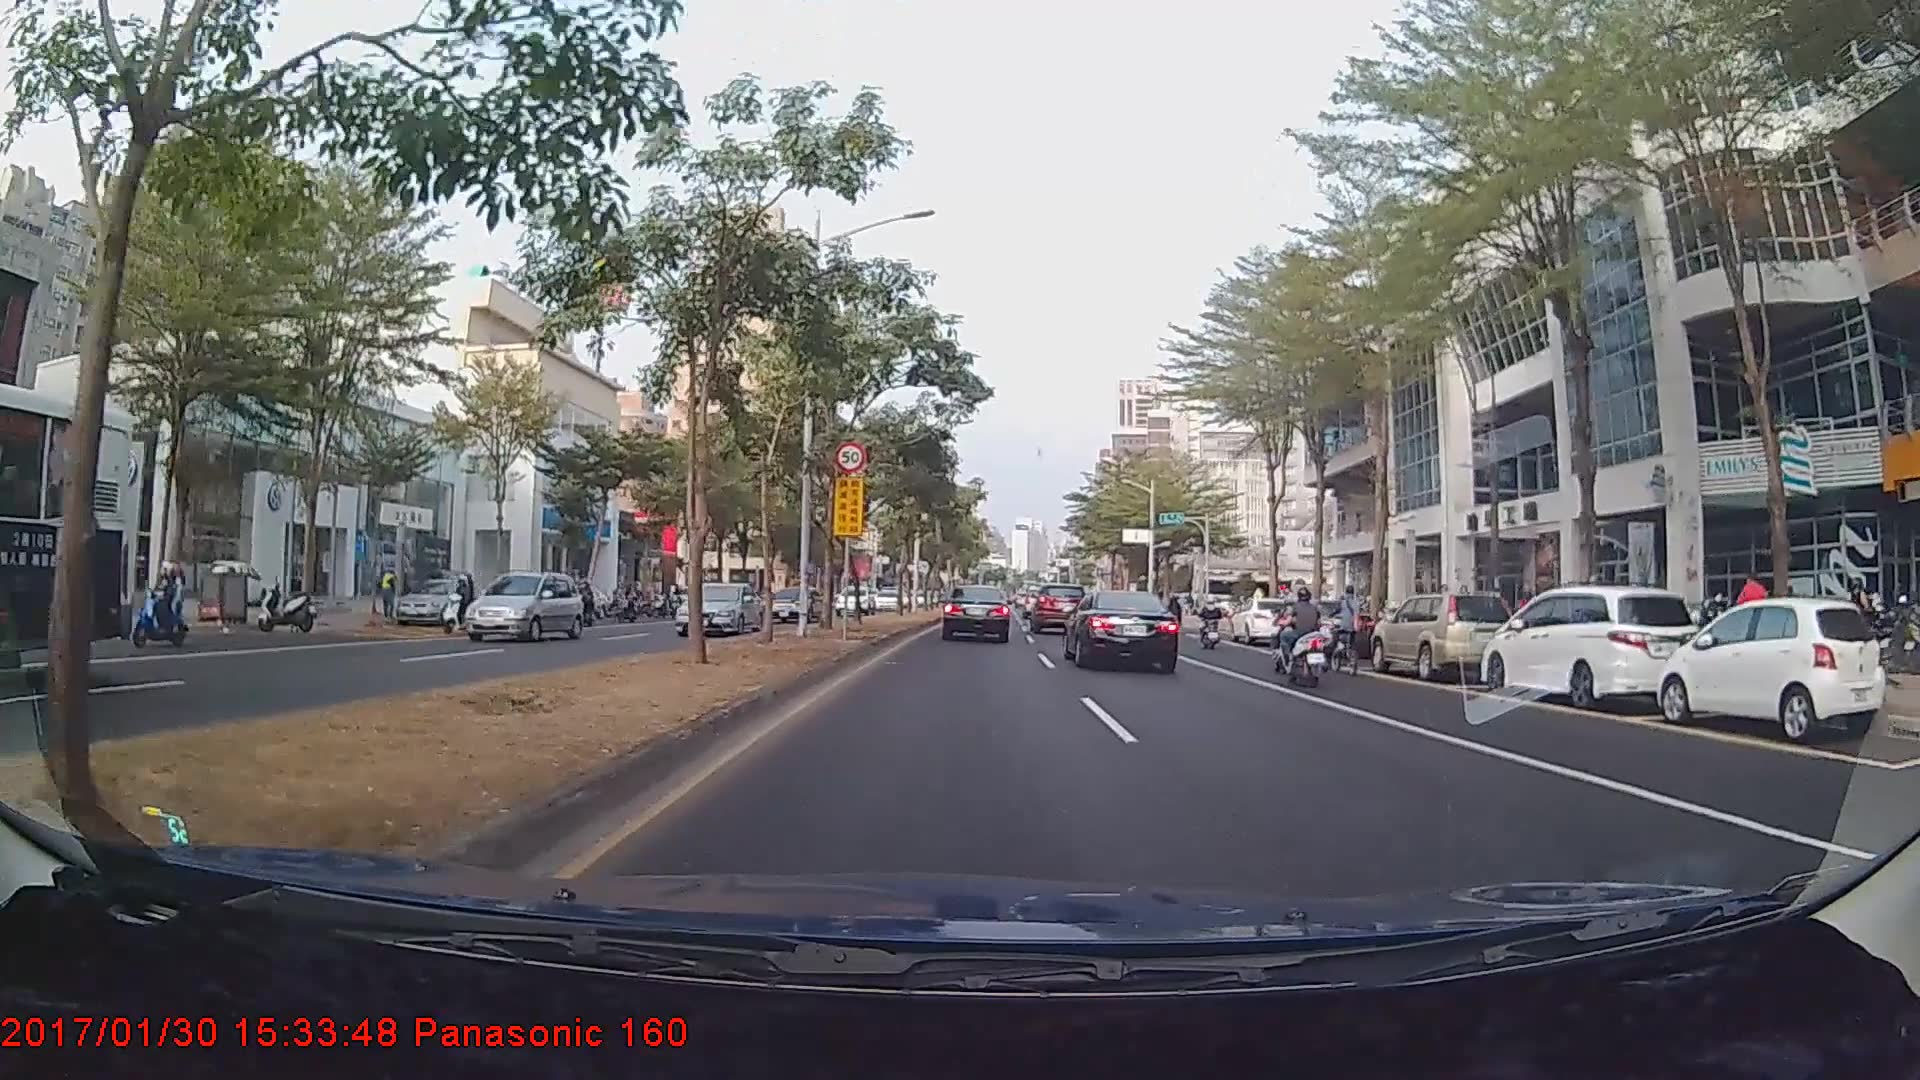rider: (1267, 582, 1341, 688), (133, 557, 190, 648), (441, 569, 484, 638), (1193, 593, 1227, 649)
vehicle: (0, 375, 134, 688), (1658, 595, 1887, 741), (1479, 585, 1701, 708), (1368, 592, 1514, 678), (1066, 586, 1181, 672), (458, 569, 586, 646), (1268, 599, 1369, 662), (671, 581, 760, 635), (941, 583, 1012, 643), (393, 577, 480, 623), (1233, 594, 1301, 646), (1028, 584, 1079, 633), (762, 586, 824, 622), (834, 587, 873, 615)
